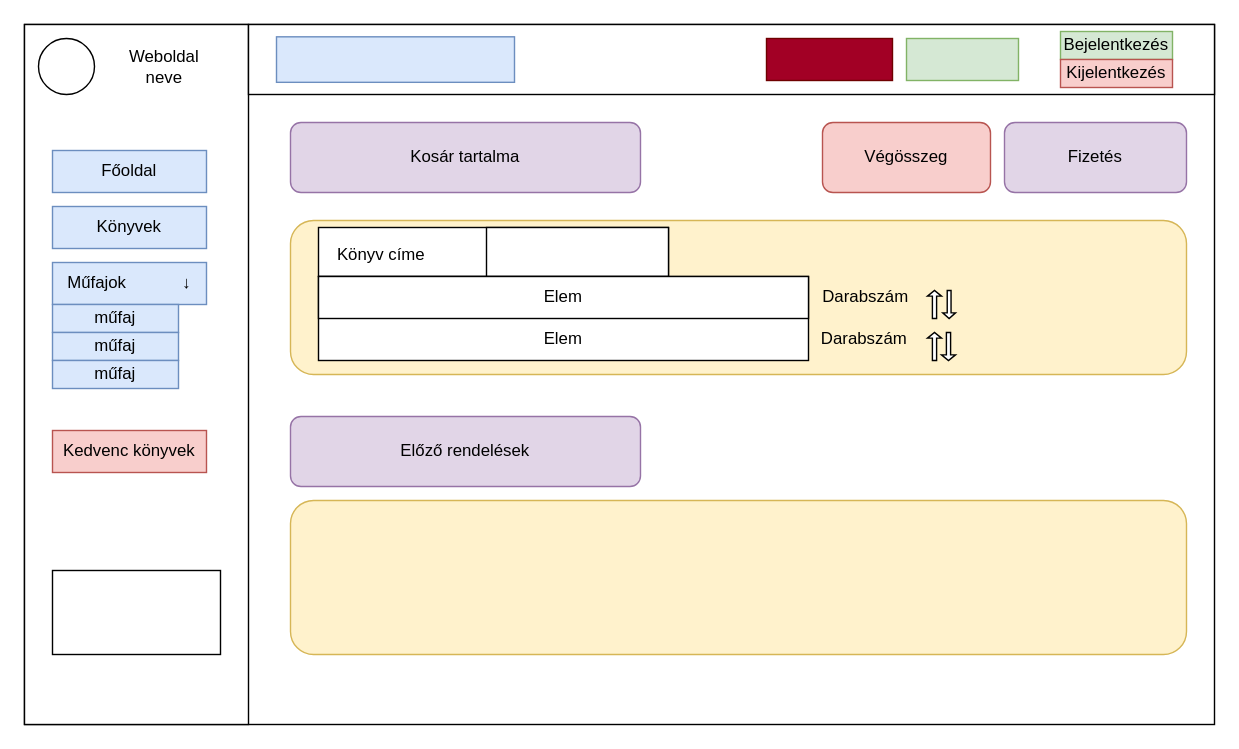
This 1239x749 diagram has some shape labels left out. The shapes that lost their labels are listed below. From the top down, each one's centre as x and y in pixels, then its label:
At pixel 65 65: "Logo".
At pixel 394 58: "Keresés".
At pixel 828 58: "Kosaram".
At pixel 961 58: "Regisztráció".
At pixel 576 251: "Könyv szerzője".
At pixel 737 576: "Kosár tartalmával hasonlóan".
At pixel 135 611: "ÁSZF Kapcsolat".
